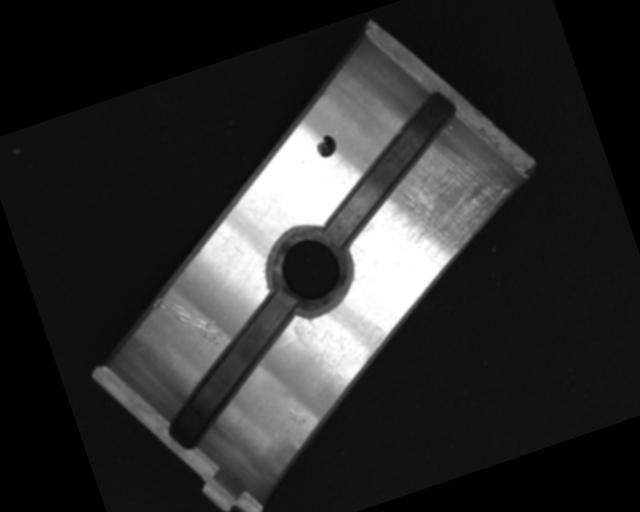blot: (313, 131, 340, 159)
bruise: (286, 400, 311, 428)
gap: (136, 289, 327, 454), (297, 90, 485, 248)
hole: (255, 217, 363, 326)
nick: (151, 281, 226, 361)
scratch: (346, 124, 533, 292)
